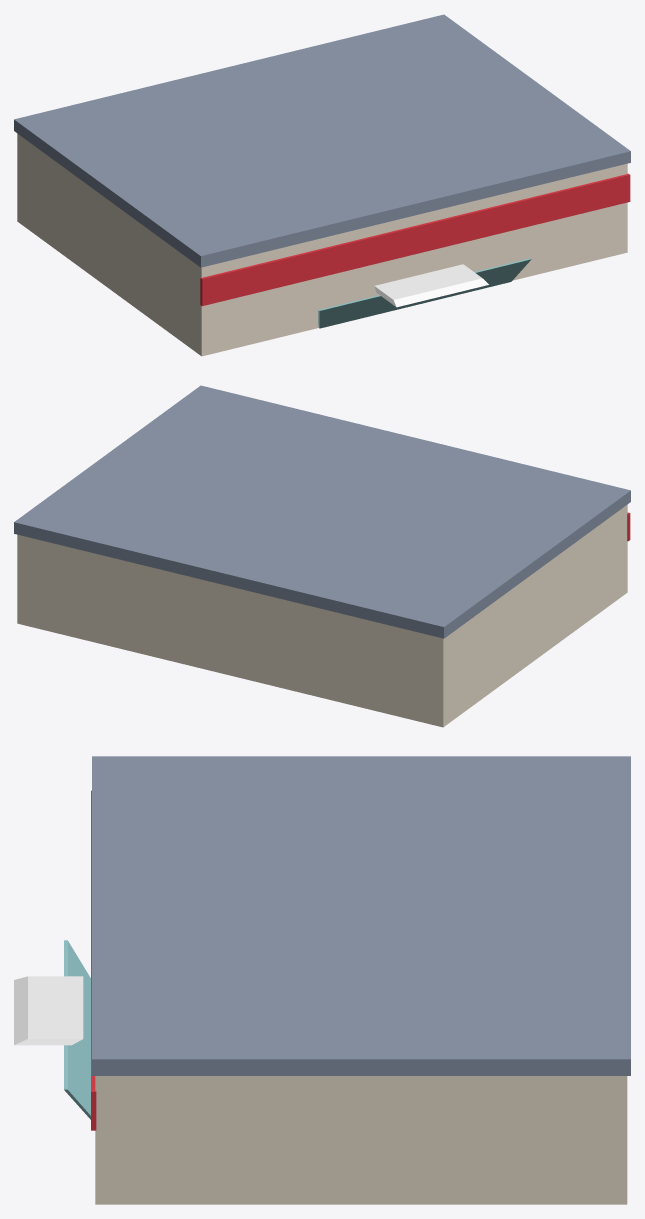
File: supermarket.glb
3 renders of one model, top to bottom at view 1: azimuth 30°, elevation 25°; view 2: azimuth 150°, elevation 25°; view 3: azimuth 270°, elevation 25°, orthographic. The views are drawn at different scales.
Parts seen in each view (by area): view 1: supermarket_metal, supermarket_wall_cream, supermarket_red, supermarket_white, supermarket_glass; view 2: supermarket_metal, supermarket_wall_cream; view 3: supermarket_metal, supermarket_wall_cream, supermarket_white, supermarket_glass.
Boxes of the visible parts, x1,y1,x2,y2 form: supermarket_metal: (14, 14, 630, 267); supermarket_wall_cream: (17, 133, 627, 356); supermarket_red: (200, 173, 630, 306); supermarket_white: (374, 264, 488, 307); supermarket_glass: (318, 258, 531, 328); supermarket_metal: (14, 385, 630, 638); supermarket_wall_cream: (17, 504, 627, 727); supermarket_metal: (92, 756, 630, 1075); supermarket_wall_cream: (95, 1076, 627, 1204); supermarket_white: (14, 976, 83, 1045); supermarket_glass: (64, 940, 90, 1119).
Bounding box in the file's own units: 42.02 × 9.5 × 36.19.
